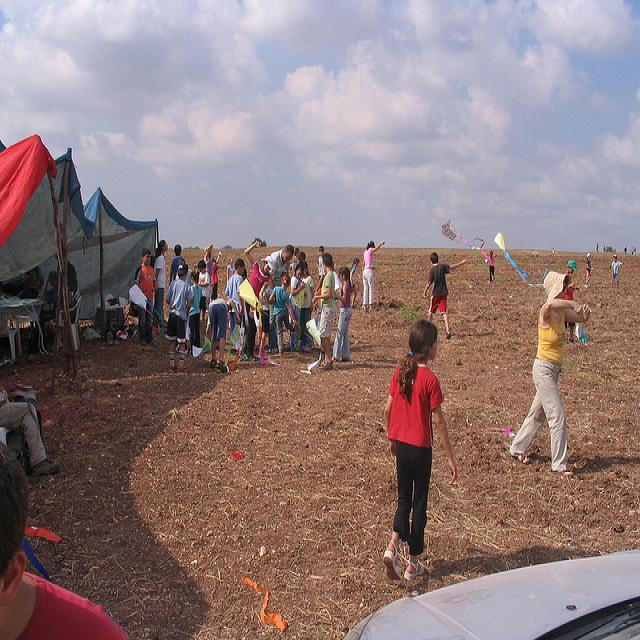Vehicle: (340, 552, 640, 632)
